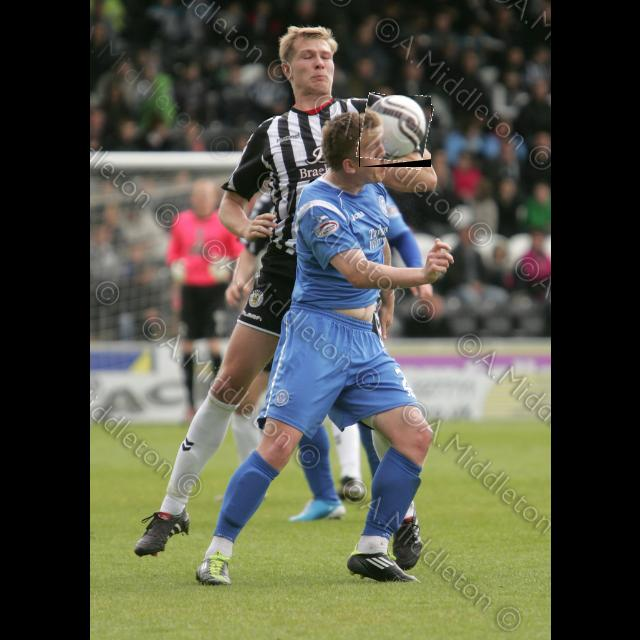Football: (359, 95, 431, 167)
